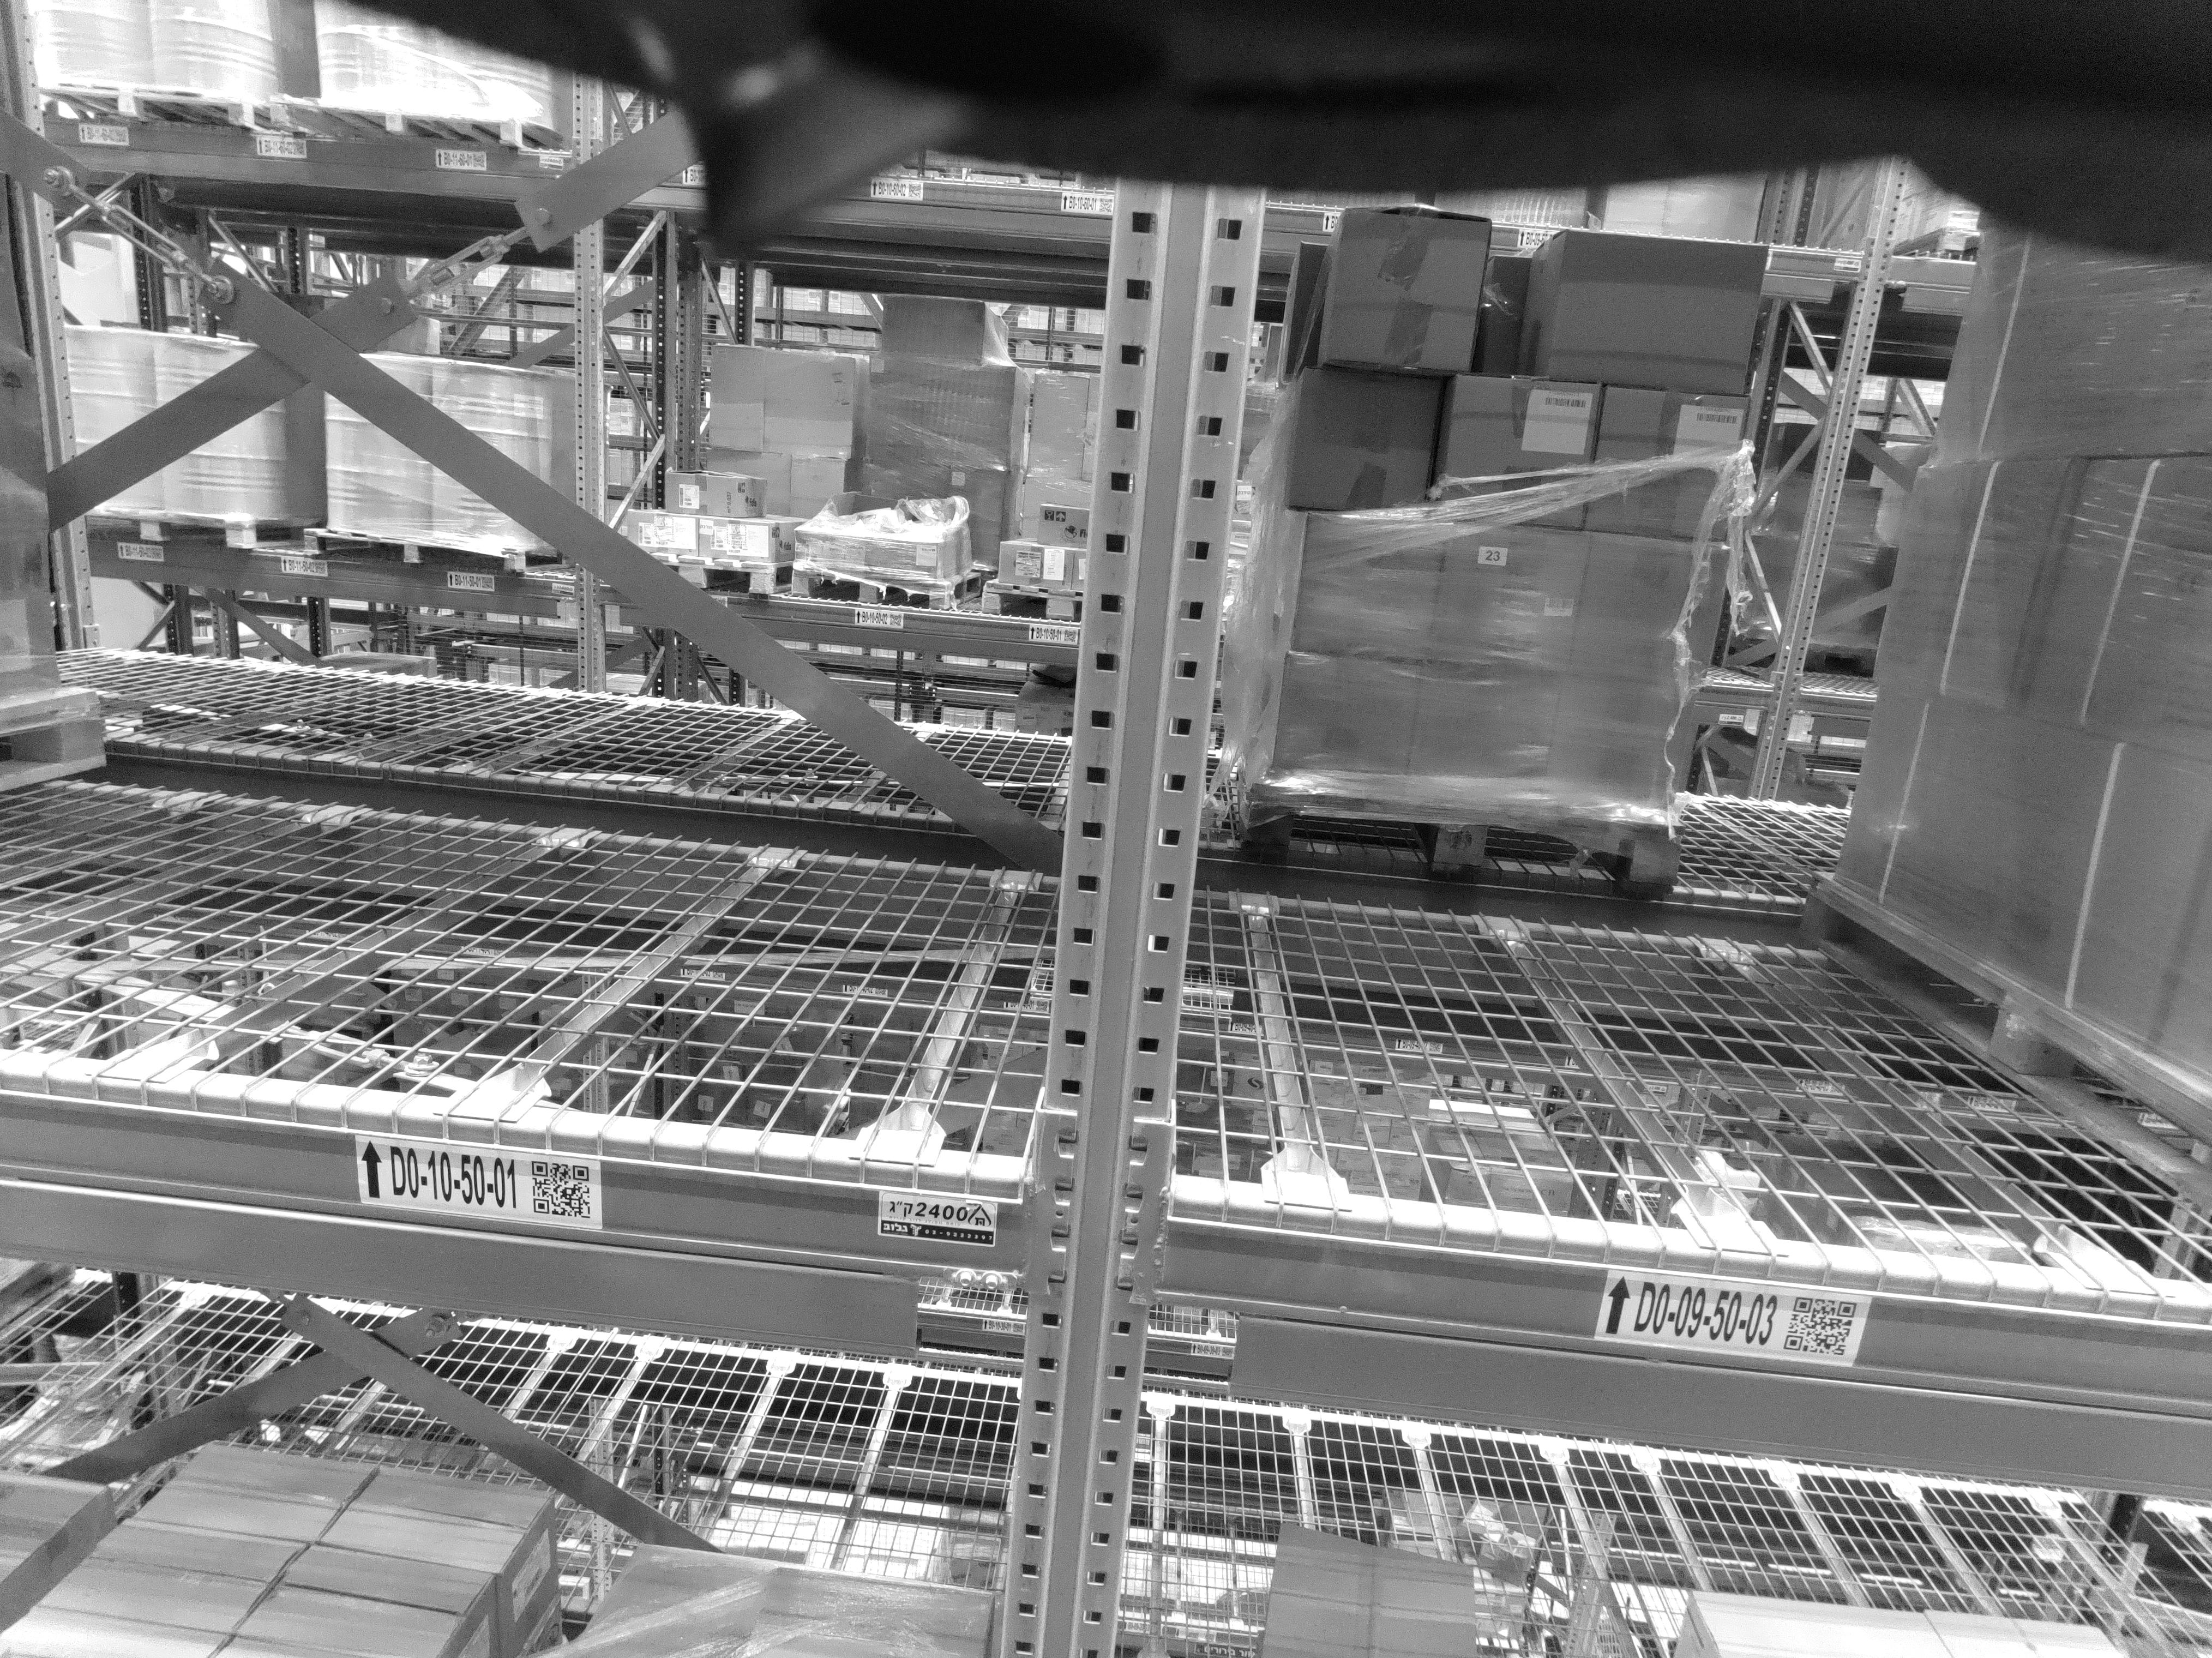empty-shelf: (23, 275, 1008, 1076), (1282, 221, 1925, 1139)
